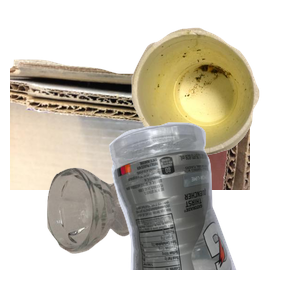cardboard: (10, 57, 250, 237)
glass: (44, 165, 178, 300)
plastic: (106, 120, 300, 300)
trash: (129, 25, 300, 173)
